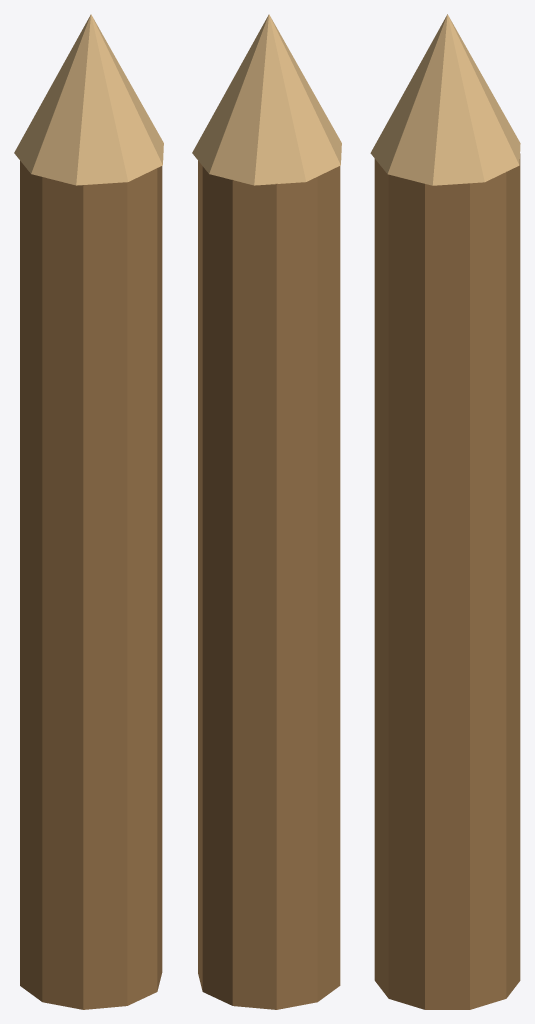
Rendered from pencil.fbx.
3 views of the same model, side by side, from view 1: azimuth 30°, elevation 25°; view 2: azimuth 150°, elevation 25°; view 3: azimuth 270°, elevation 25° (orthographic).
Visible parts, largest first — view 1: Cylinder, Cone; view 2: Cylinder, Cone; view 3: Cylinder, Cone.
Part boxes in pixels (x1,y1,x2,y2): Cylinder: (20, 161, 162, 1009); Cone: (14, 14, 163, 185); Cylinder: (198, 161, 340, 1009); Cone: (192, 14, 341, 185); Cylinder: (374, 153, 520, 1009); Cone: (370, 14, 520, 185).
Bounding box in the file's own units: 33.29 × 234 × 32.89.
